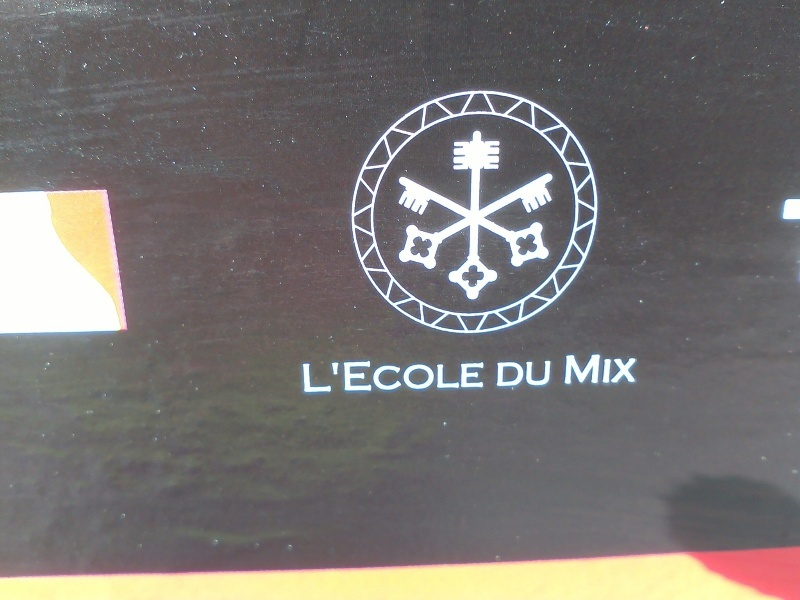text: (577, 352, 592, 388), (593, 352, 608, 388), (609, 352, 624, 388), (305, 360, 320, 395), (321, 360, 336, 395), (337, 360, 352, 395), (353, 360, 368, 395), (369, 360, 384, 395), (385, 360, 400, 395), (401, 360, 416, 395), (417, 360, 432, 395), (433, 360, 448, 395), (449, 360, 464, 395), (465, 360, 480, 395), (497, 359, 512, 388), (513, 359, 528, 388), (529, 359, 544, 388), (625, 352, 637, 388), (565, 352, 576, 388), (545, 359, 552, 388), (481, 360, 486, 395), (301, 360, 304, 395)
